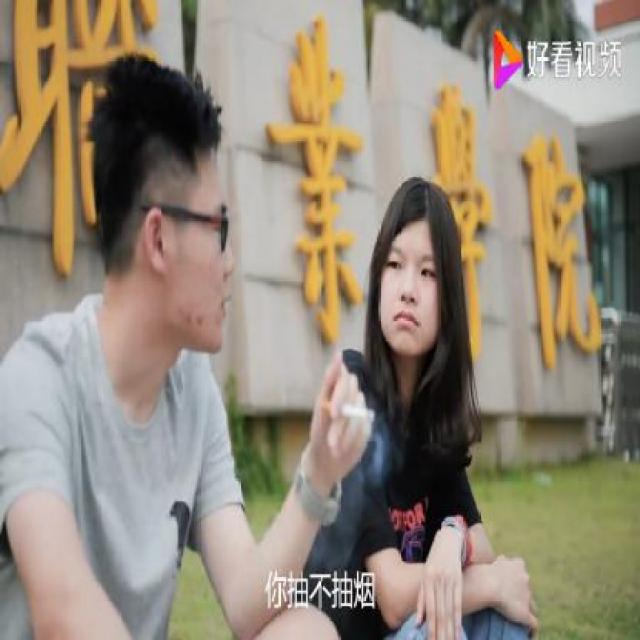smoke: (312, 381, 378, 434)
